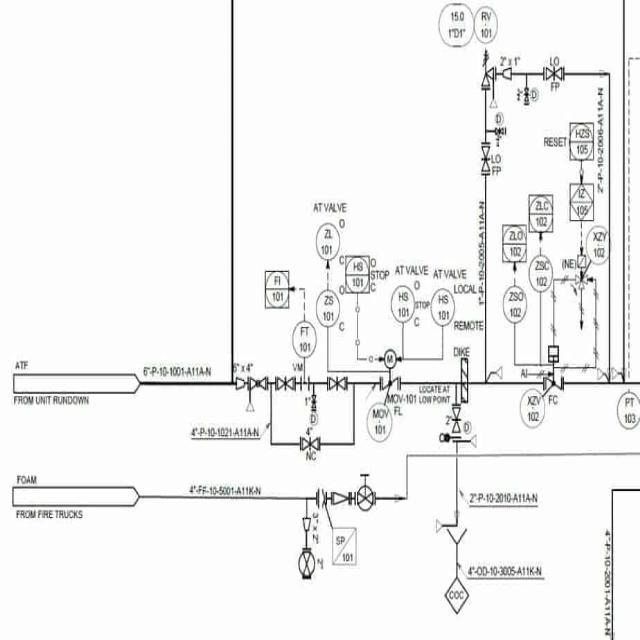3 Way Gate Valve: (575, 275, 590, 295)
Globe Valve: (250, 376, 268, 391)
Motor Operated Butterfly Valve: (382, 348, 399, 392)
Needle Valve: (304, 434, 320, 455), (451, 406, 462, 434), (545, 64, 562, 82), (328, 376, 346, 393), (275, 376, 293, 390), (482, 144, 490, 172)
PSV: (472, 46, 494, 91)
Rotary Piston-Pneumatic Butterfly Valve: (545, 343, 562, 392)
